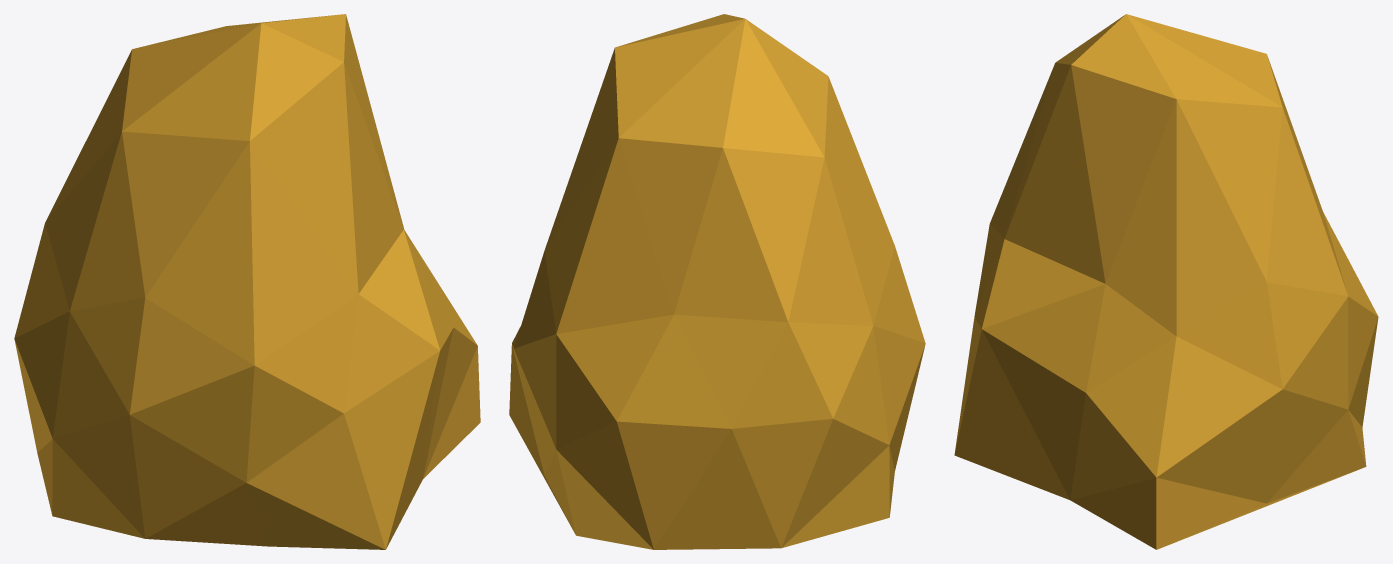
3 views of the same model, side by side, from view 1: azimuth 30°, elevation 25°; view 2: azimuth 150°, elevation 25°; view 3: azimuth 270°, elevation 25° (orthographic). The views are drawn at different scales.
Visible parts, largest first — view 1: GeoSphere005; view 2: GeoSphere005; view 3: GeoSphere005.
Boxes of the visible parts, x1,y1,x2,y2 form: GeoSphere005: [14, 14, 480, 549]; GeoSphere005: [509, 14, 925, 549]; GeoSphere005: [954, 14, 1378, 549].
Bounding box in the file's own units: 23.51 × 25.33 × 22.53.
